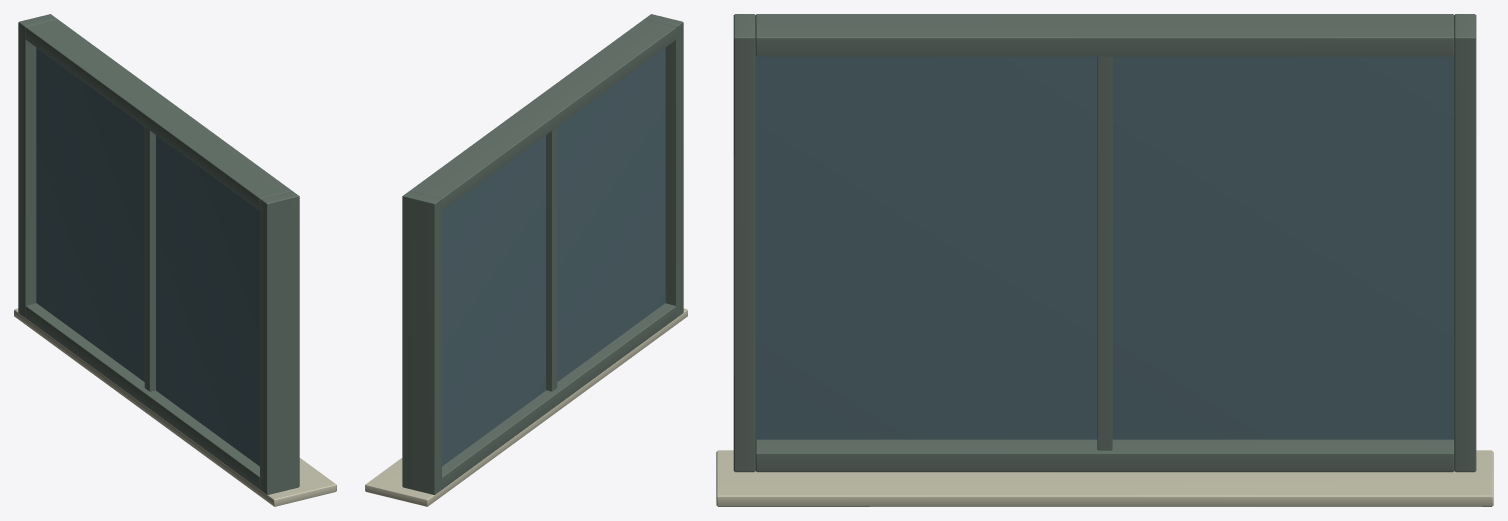
The model's file is Diner_Window.fbx.
3 renders of one model, left to right at view 1: azimuth 30°, elevation 25°; view 2: azimuth 150°, elevation 25°; view 3: azimuth 270°, elevation 25°, orthographic. The views are drawn at different scales.
Visible parts, largest first — view 1: Diner_Window_Module_01_Glass, Diner_Window_Module_01_Frame_Sill; view 2: Diner_Window_Module_01_Glass, Diner_Window_Module_01_Frame_Sill; view 3: Diner_Window_Module_01_Glass, Diner_Window_Module_01_Frame_Sill.
Boxes of the visible parts, box(x1,y1,x2,y2) form: Diner_Window_Module_01_Glass: box(36, 47, 259, 466); Diner_Window_Module_01_Frame_Sill: box(14, 14, 336, 506); Diner_Window_Module_01_Glass: box(442, 47, 665, 466); Diner_Window_Module_01_Frame_Sill: box(365, 14, 687, 506); Diner_Window_Module_01_Glass: box(755, 56, 1454, 439); Diner_Window_Module_01_Frame_Sill: box(716, 14, 1493, 506).
Bounding box in the file's own units: 0.255 × 1.13 × 1.78.
